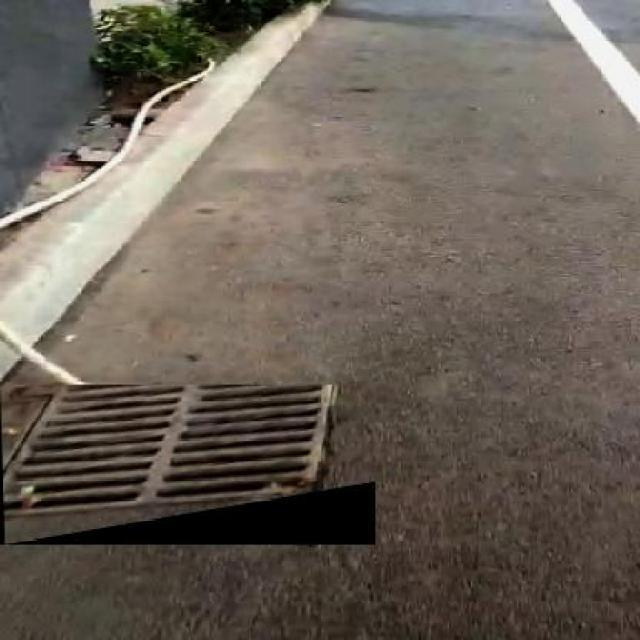Manhole: (0, 385, 376, 545)
Pothole: (330, 80, 384, 96)
